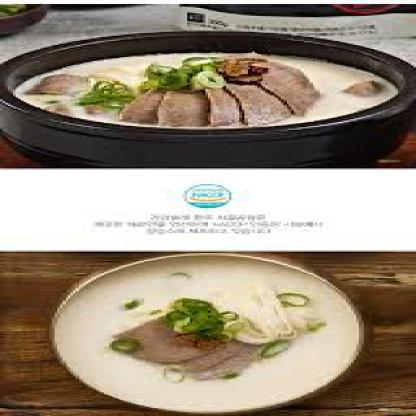beef-bone soup: (54, 255, 362, 414), (0, 45, 414, 137)
